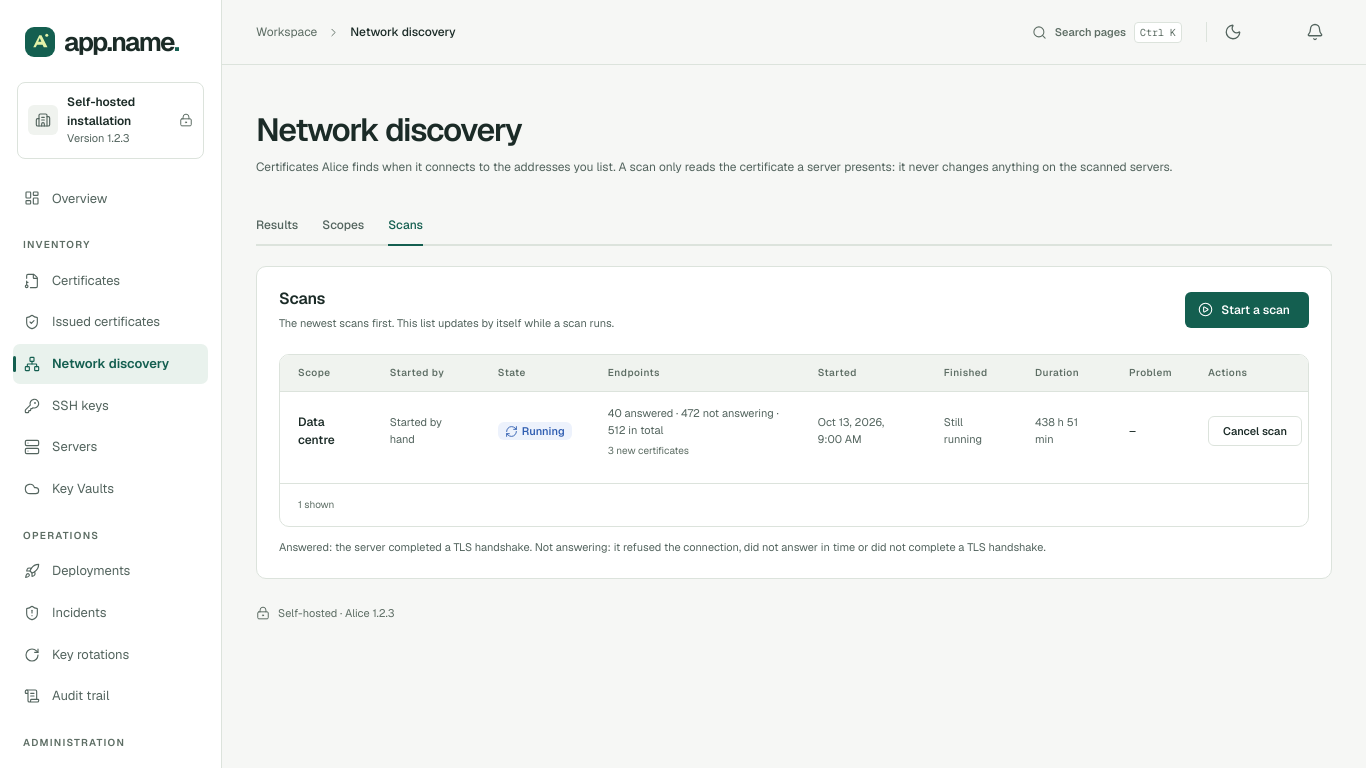
Test: Network discovery scans › shows a refused cancel
Click the button with aria-label "Cancel scan: Data centre".
click(1255, 431)  # box [1208,416,1302,446]
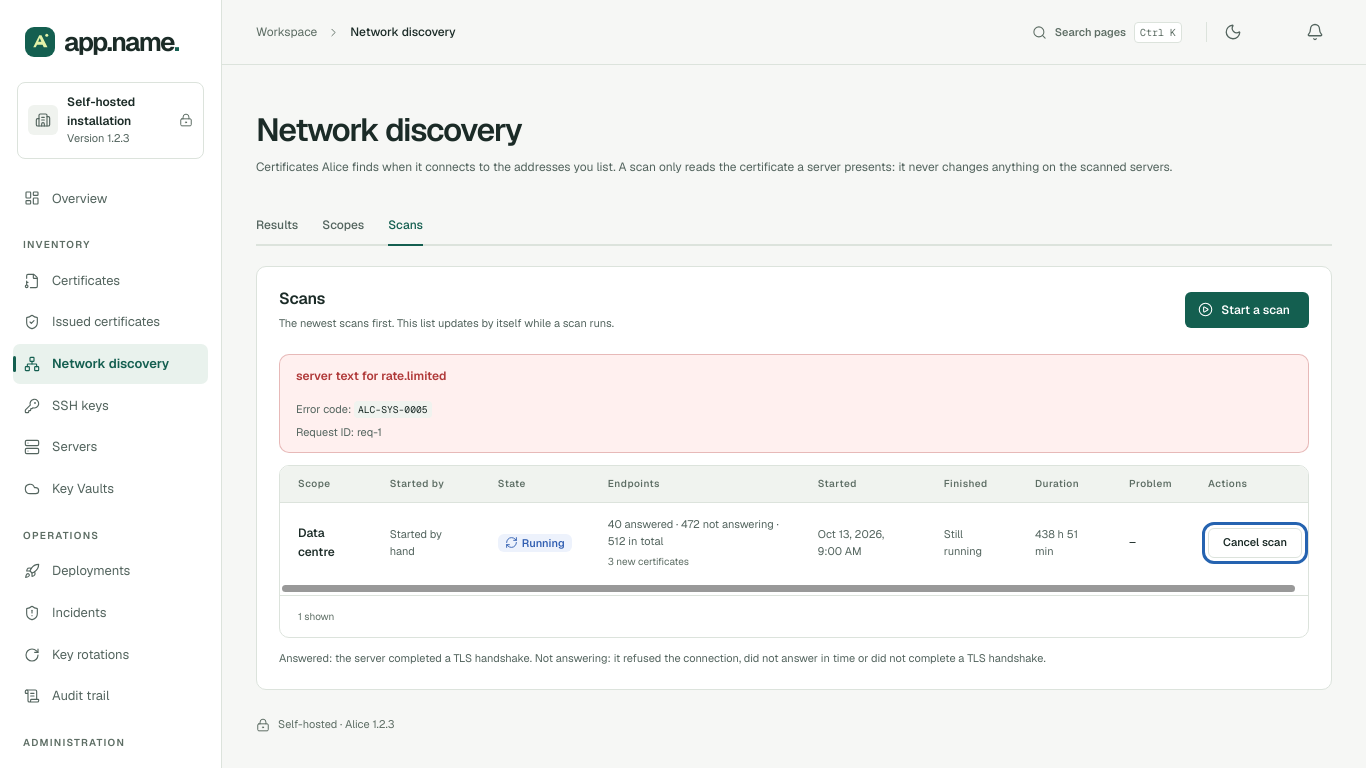
Check: the text "ALC-SYS-0005" is shown, box [354,401,432,418]
